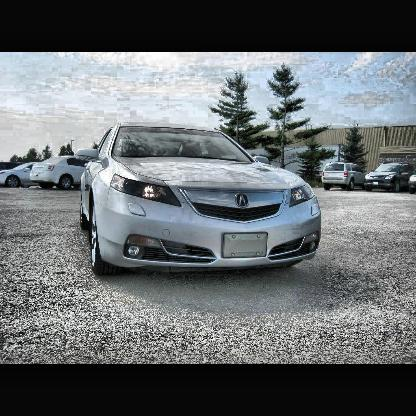Acura TL Sedan 2012: (77, 124, 325, 273)
